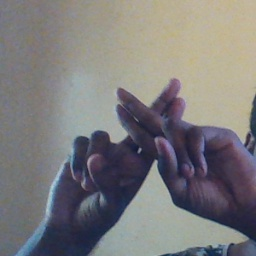F: (99, 71, 210, 199)
